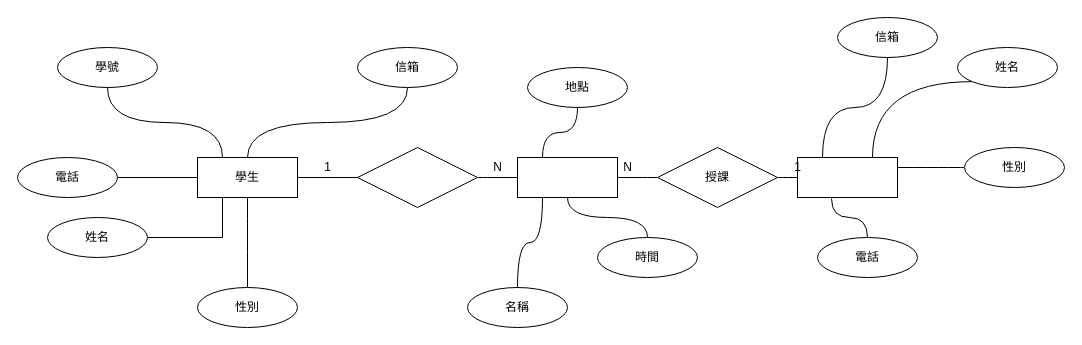
The diagram is 1082 pixels wide and 345 high, and some of its shapes have lost their labels. The shapes that lost their labels are listed below. From the top down, each one's box as (x1, y1, x2, y2) in pixels, then its label:
(356, 146, 478, 208): 修課
(516, 156, 618, 198): 課堂
(796, 156, 898, 198): 教授
